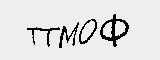М: (57, 19, 78, 50)
О: (78, 15, 98, 46)
Т: (39, 25, 57, 46), (26, 24, 40, 49)
Ф: (100, 11, 128, 49)
